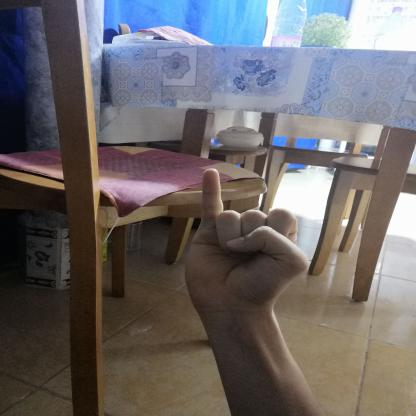MEEM: (160, 161, 323, 323)
